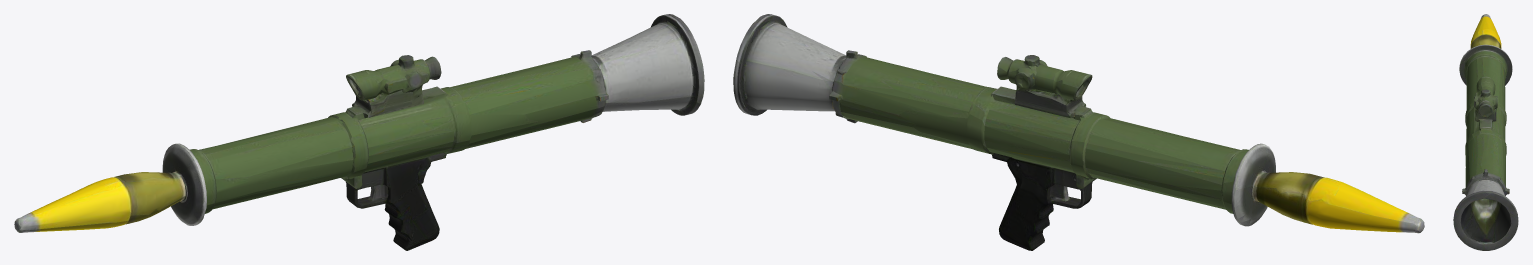
File: w-rpg.glb
3 views of the same model, side by side, from view 1: azimuth 30°, elevation 25°; view 2: azimuth 150°, elevation 25°; view 3: azimuth 270°, elevation 25° (orthographic). The views are drawn at different scales.
Bounding box in the file's own units: 1.9 × 0.5157 × 0.2549.
1 material, 1 textured.
